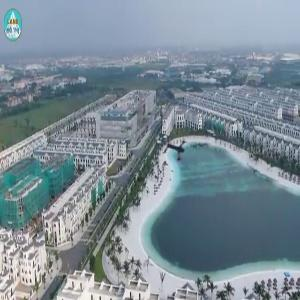drone: (162, 132, 198, 168)
